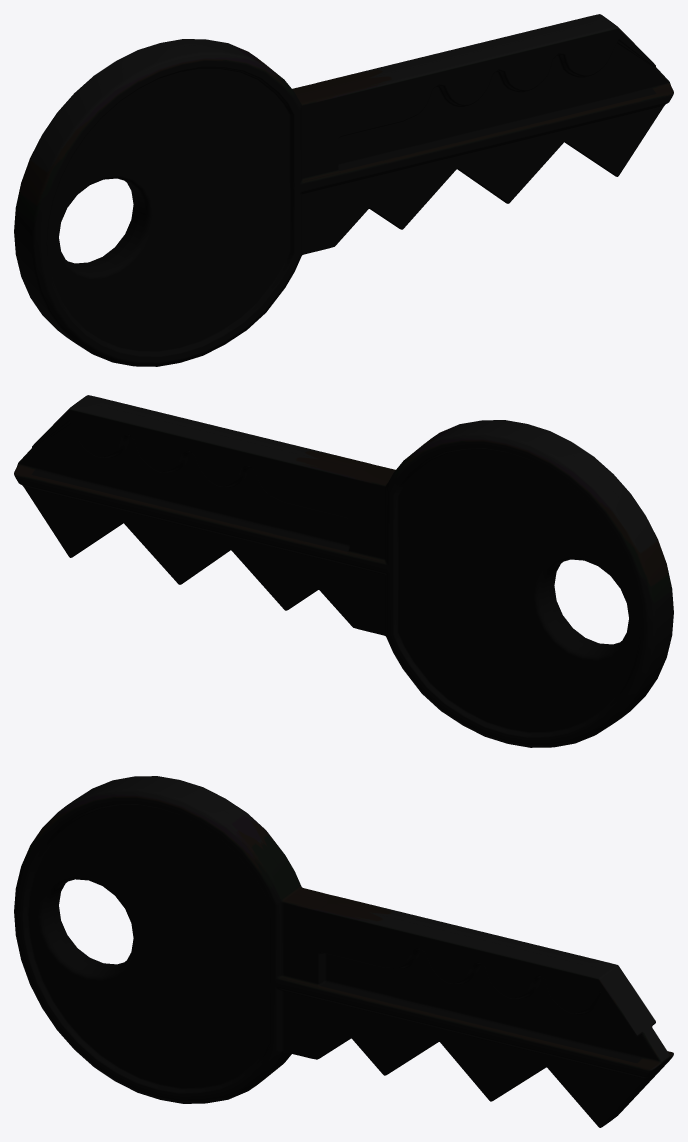
Rendered from key.fbx.
3 views of the same model, one above another, from view 1: azimuth 30°, elevation 25°; view 2: azimuth 150°, elevation 25°; view 3: azimuth 330°, elevation 25° (orthographic).
Parts seen in each view (by area): view 1: node_id30; view 2: node_id30; view 3: node_id30.
Part boxes in pixels (left/top/right/bottom): node_id30: left=14, top=14, right=673, bottom=366; node_id30: left=14, top=395, right=673, bottom=747; node_id30: left=14, top=776, right=673, bottom=1127.
Bounding box in the file's own units: 0.512 × 0.2336 × 0.0331.
Materials: 1 (1 with a texture image).
